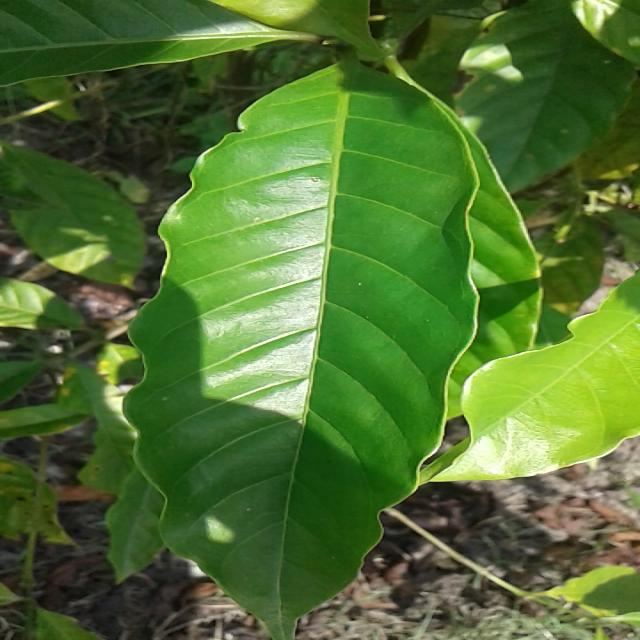Sanas: (122, 61, 480, 640)
